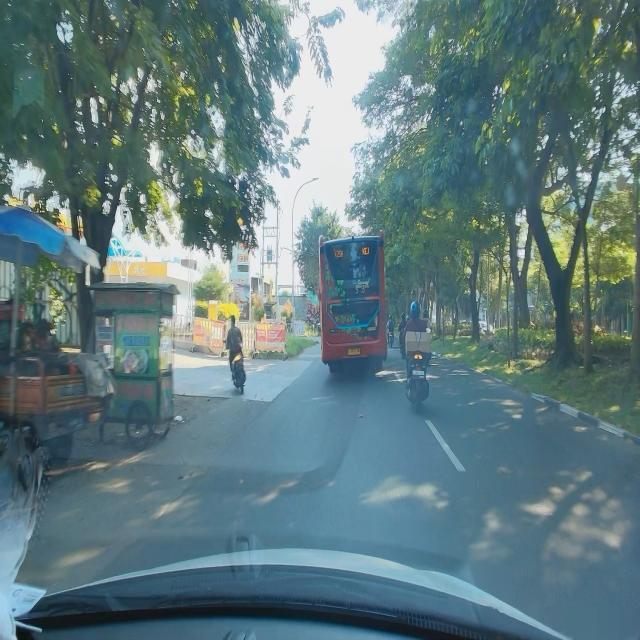bus: (318, 230, 388, 374)
license-plate: (347, 347, 361, 356)
